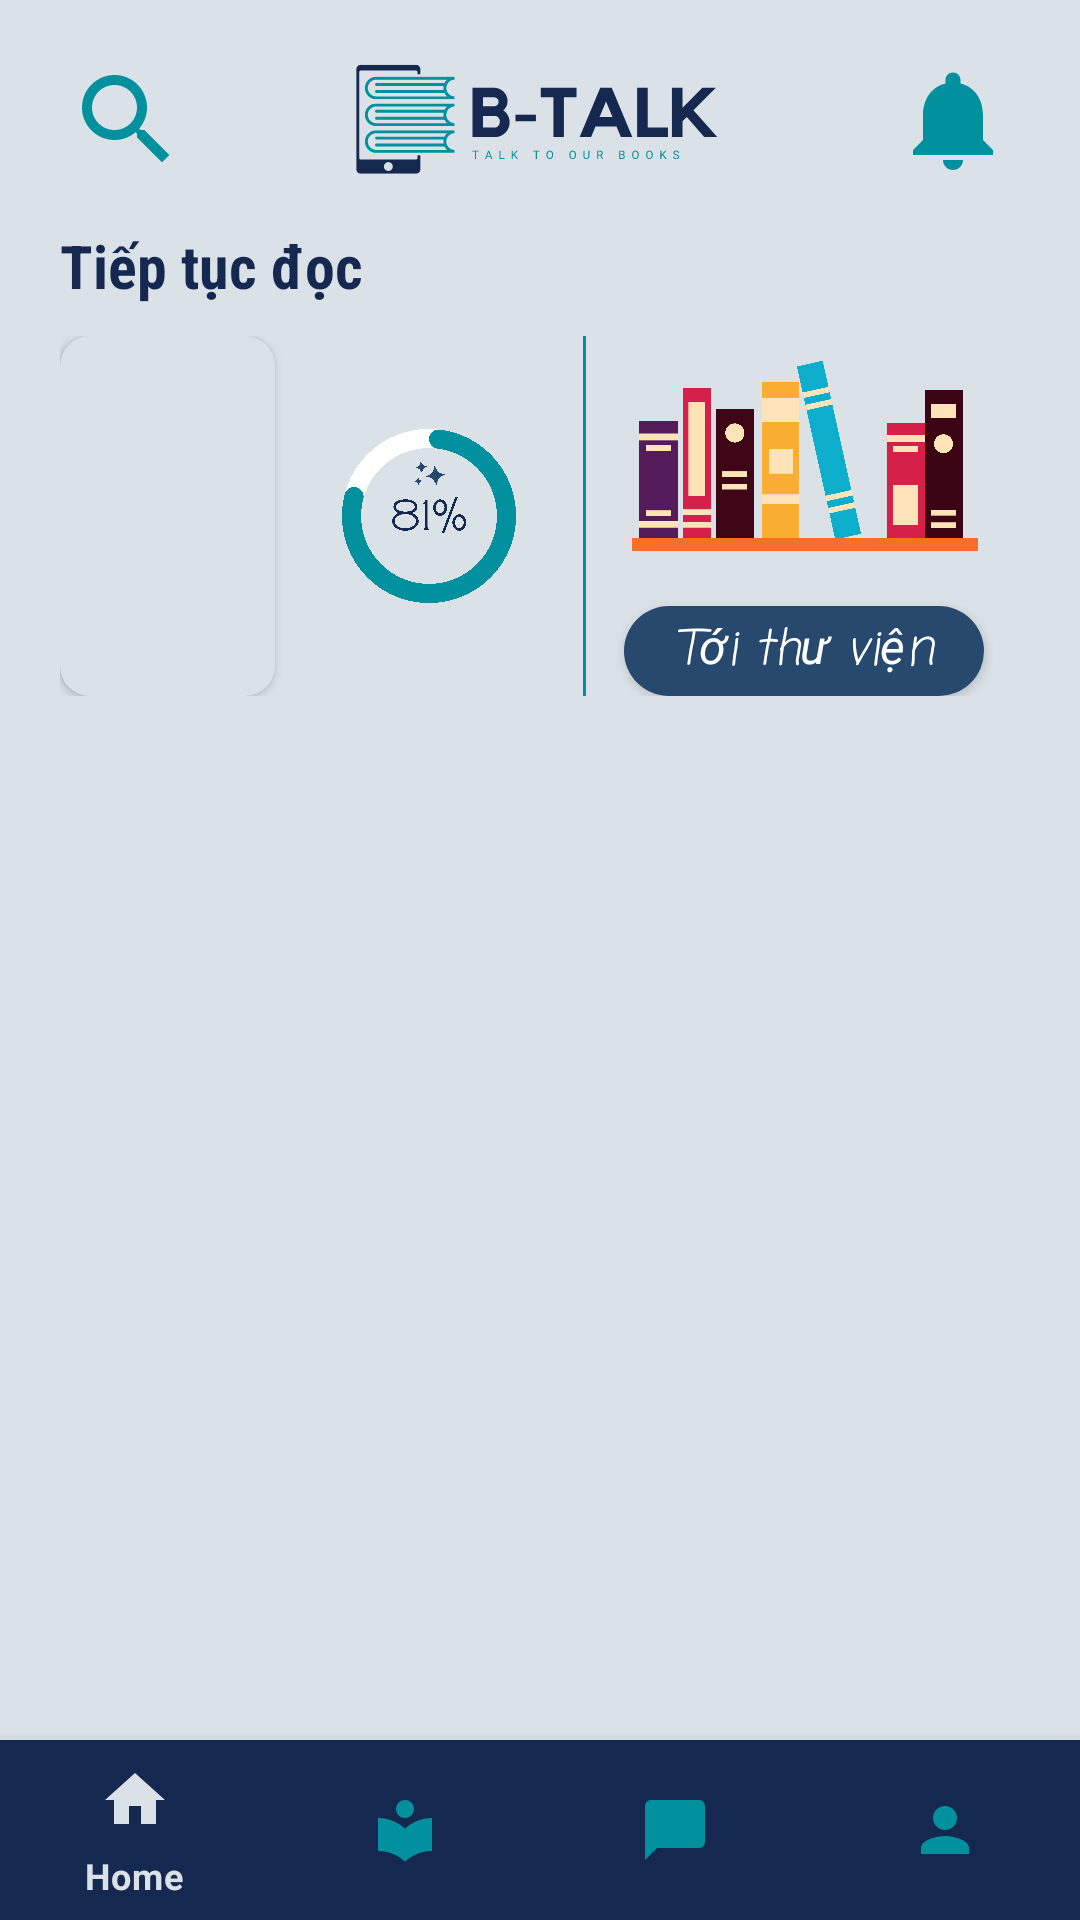

Where icons sit on this 1080px x 1920px app screen, as (x1,y1,x2,y2):
notification: (913,72,993,170)
search: (82,75,169,162)
